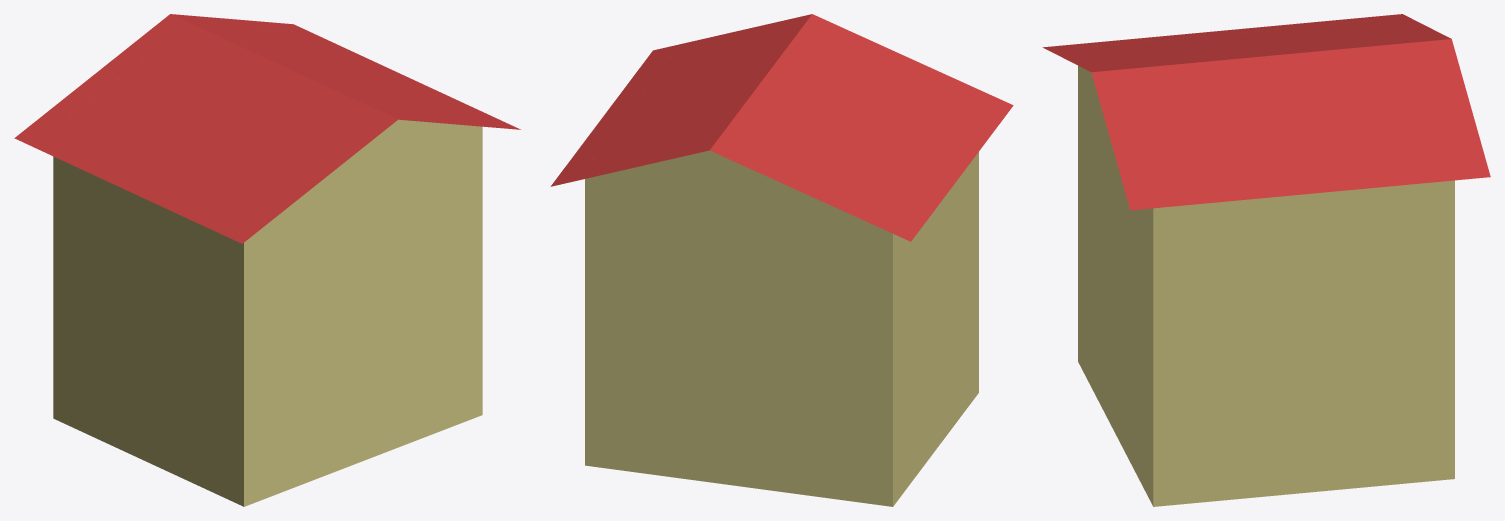
3 renders of one model, left to right at view 1: azimuth 30°, elevation 25°; view 2: azimuth 150°, elevation 25°; view 3: azimuth 270°, elevation 25°, orthographic. The views are drawn at different scales.
Size of the model in its own units: 7.99 by 7.44 by 6.85.
